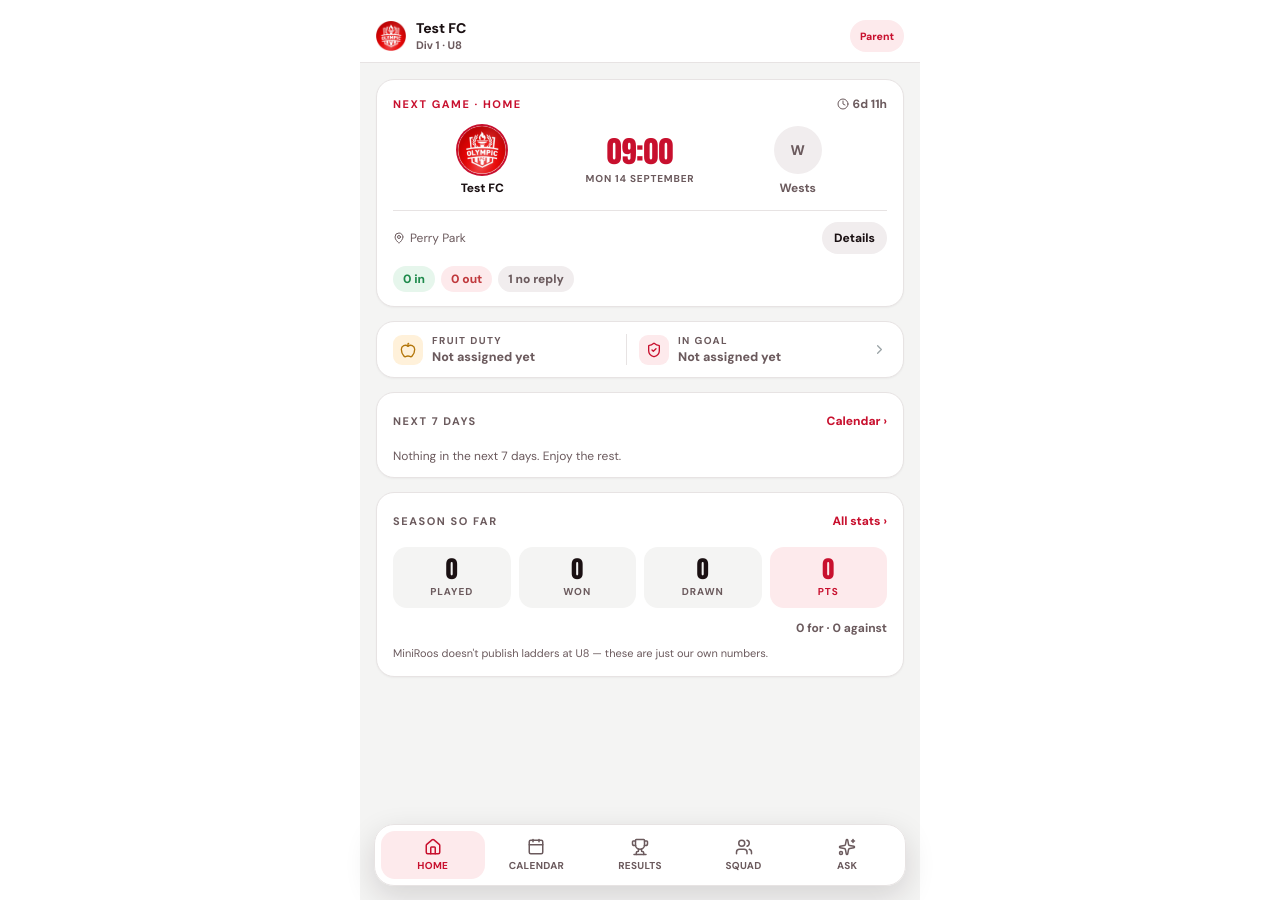
Test: App — coach-mode PIN gate › enters coach mode from the sheet when no PIN is set; the sheet then offers Team settings and Leave coach mode
Step 1. Click the button with aria-label "Viewing as" → (877, 36), box [850,20,904,52]
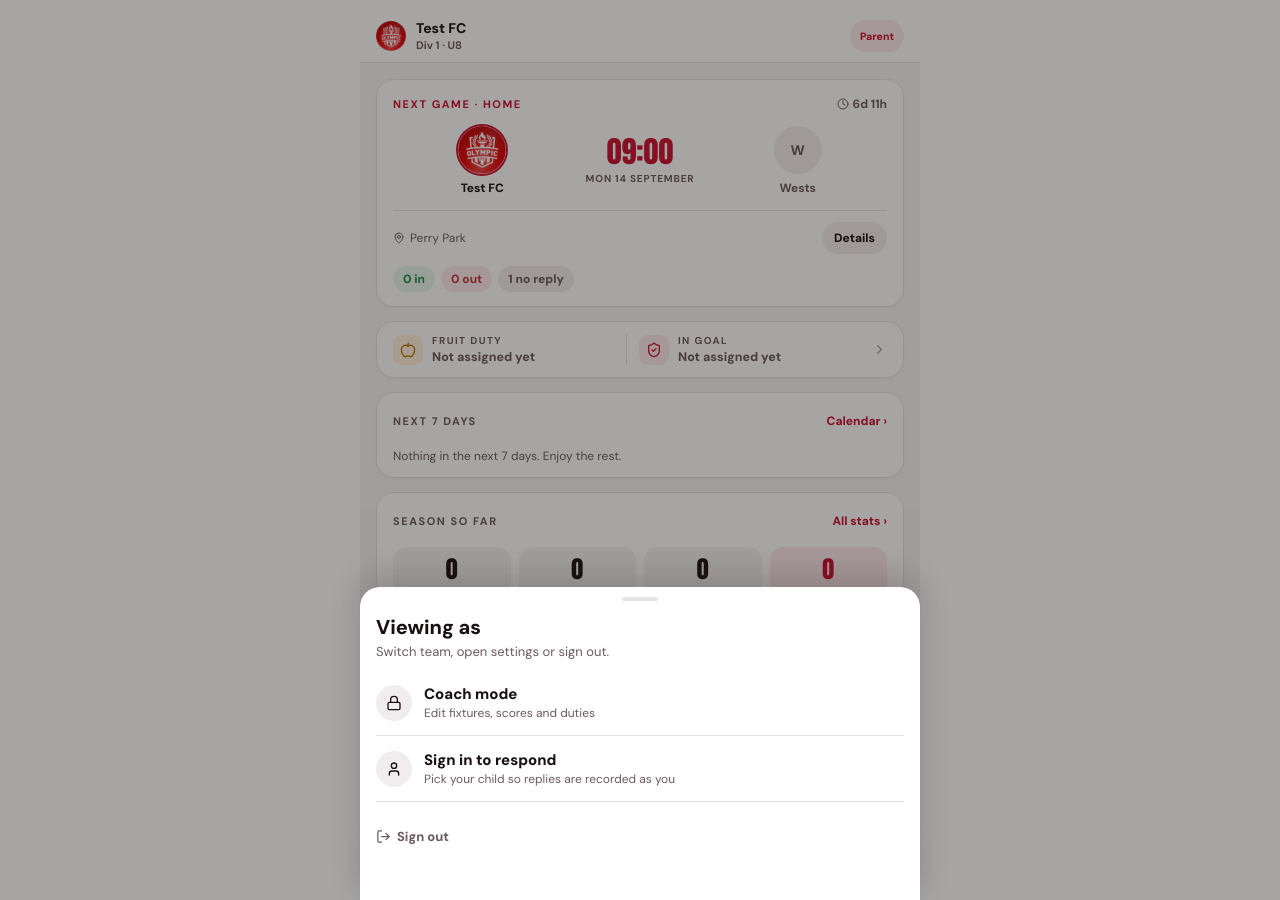
Check: the text "Team settings" is not shown
Check: the text "Switch team, open settings or sign out." is shown, box [376,643,609,660]
Check: the text "Sign in to respond" is shown, box [424,750,556,770]
Step 2. Click the text "Coach mode" → (471, 694), box [424,684,517,704]
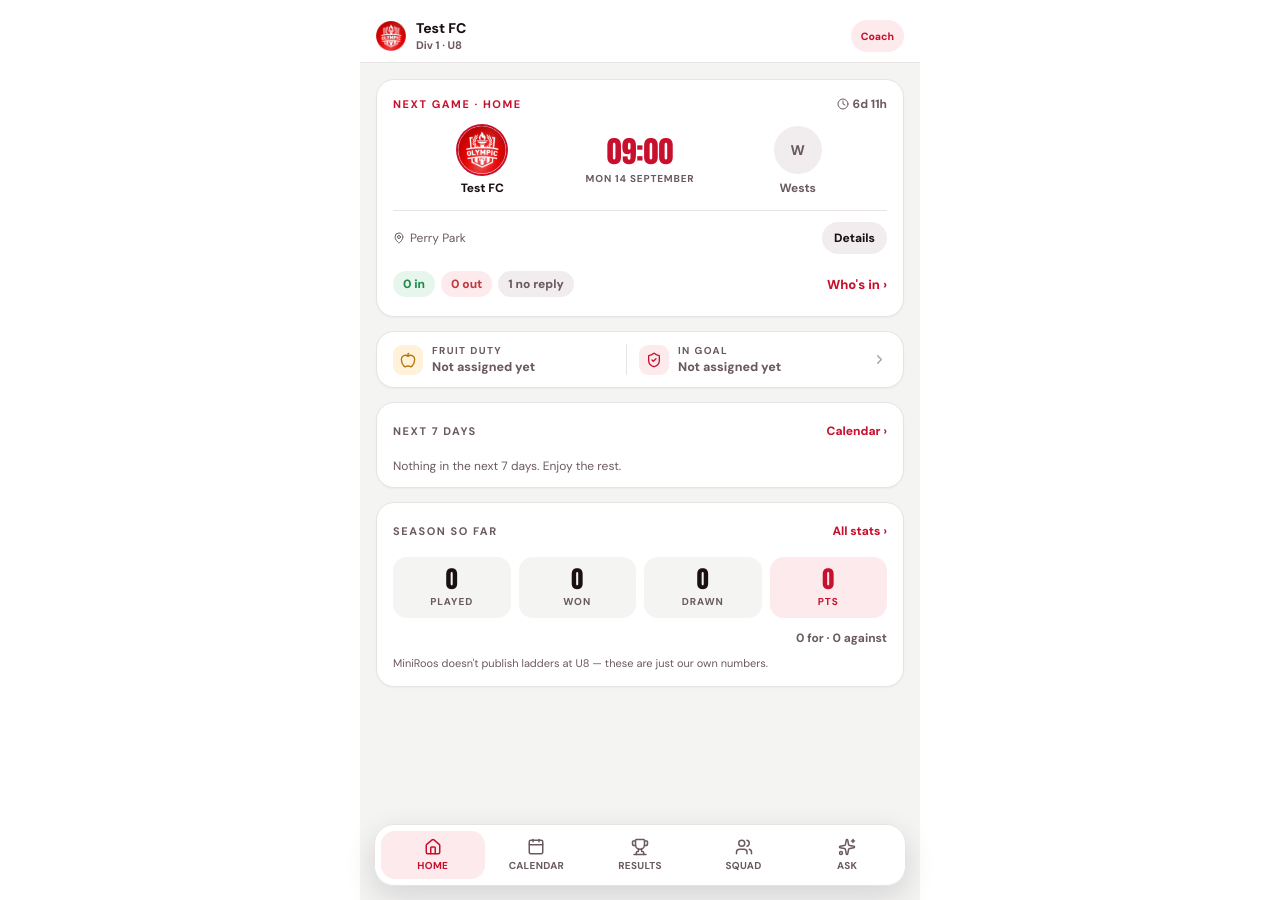
Check: the button with aria-label "Viewing as" reads "Coach"
Step 3. Click the button with aria-label "Viewing as" → (877, 36), box [851,20,904,52]
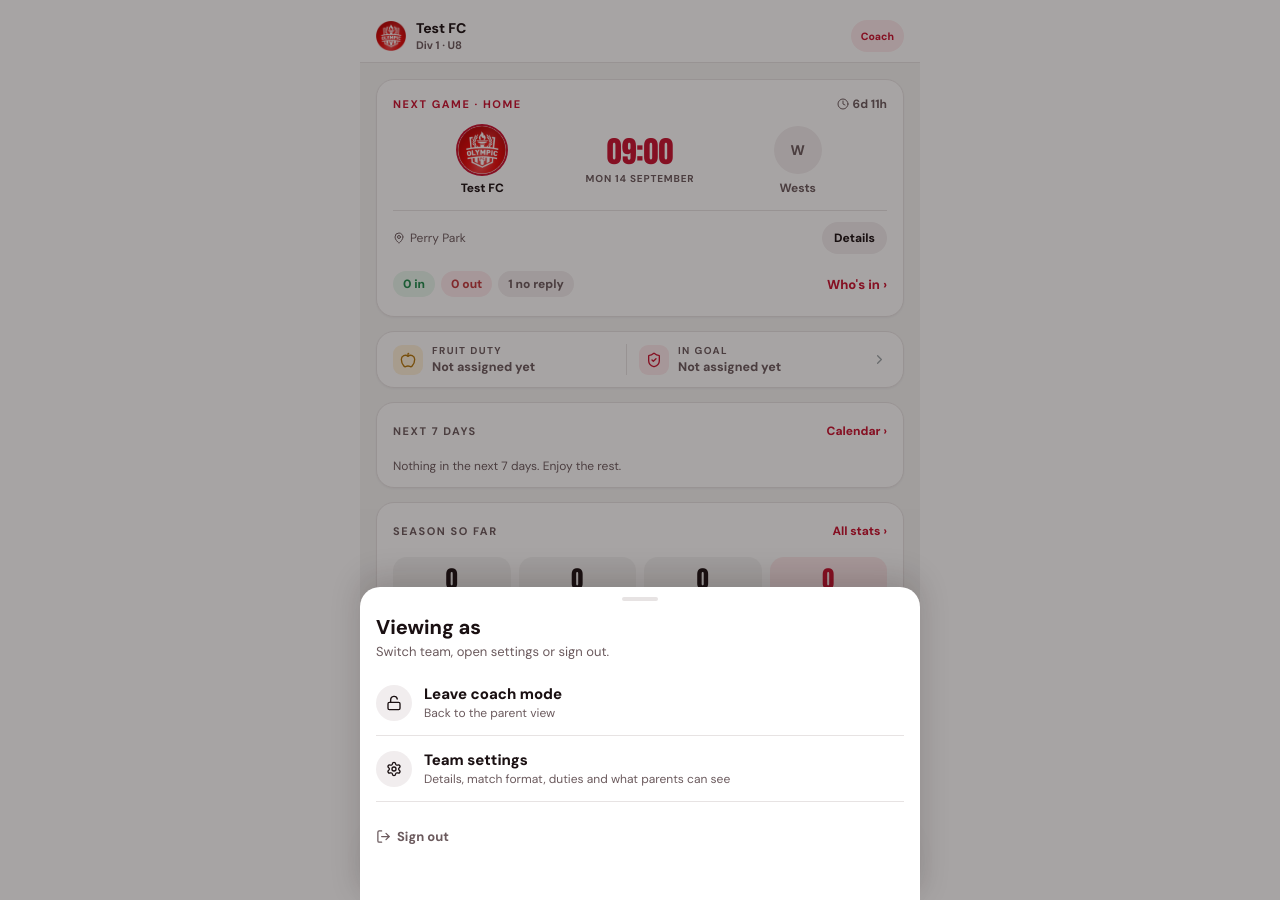
Check: the button "Sign in to respond" is not shown
Check: the text "Team settings" is shown, box [424,750,528,770]
Check: the text "Leave coach mode" is shown
Step 4. Click the text "Leave coach mode" → (493, 694), box [424,684,562,704]
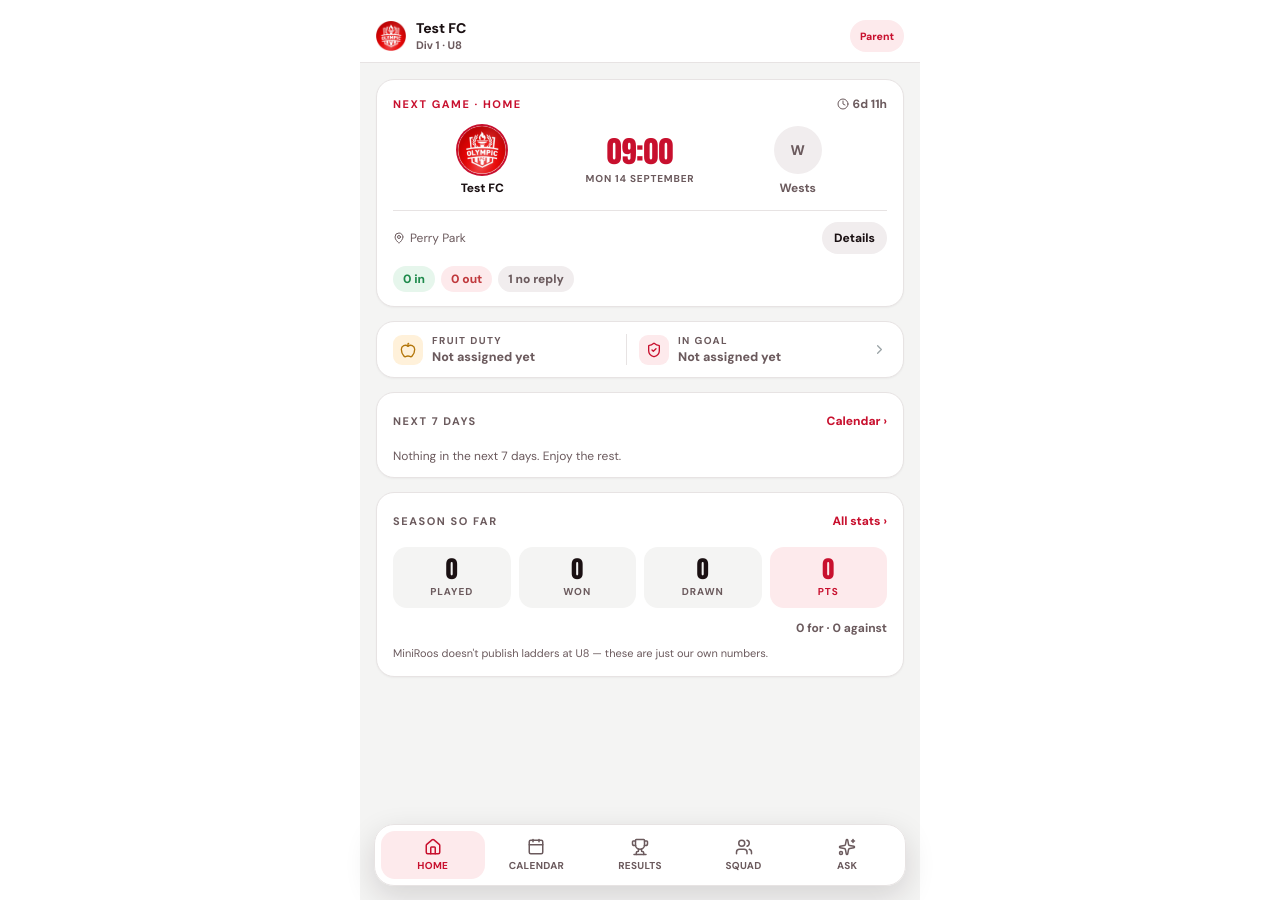
Check: the button with aria-label "Viewing as" reads "Parent", box [850,20,904,52]
